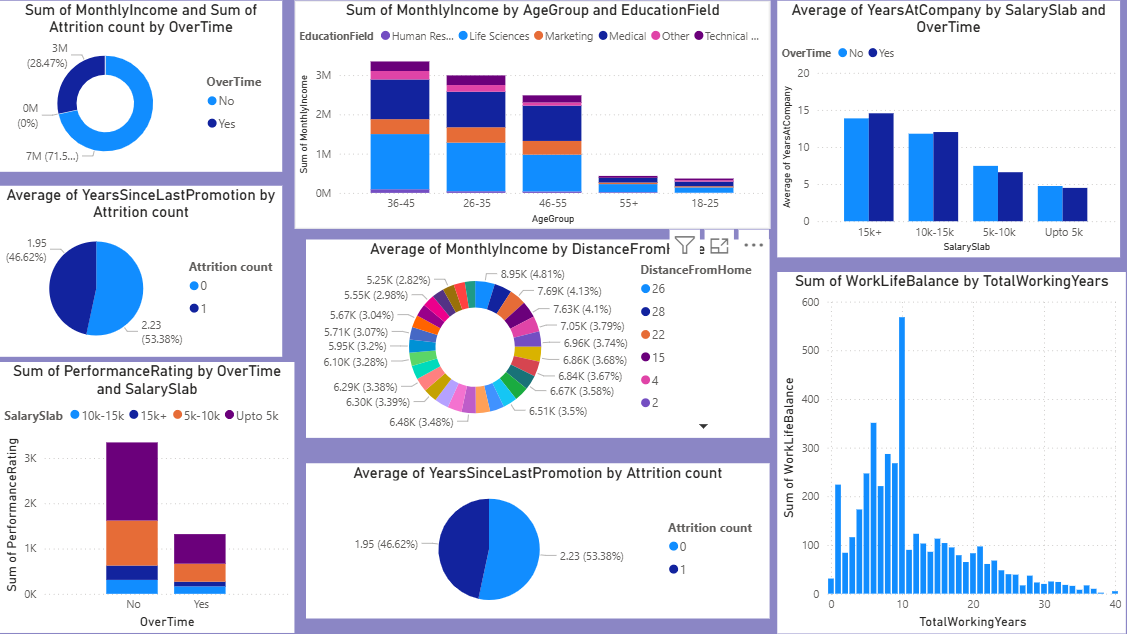

Layout of this report page (visuals, bound fields, positions):
{"tool":"powerbi","page":{"name":"Analysis","canvas":[1280,720],"ordinal":2},"visuals":[{"type":"donutChart","fields":{"Category":["HR_Analytics.OverTime"],"Y":["Sum(HR_Analytics.MonthlyIncome)","Sum(HR_Analytics.Attrition count)"]},"box":[9.6,9.6,314.2,190.7],"z":0},{"type":"pieChart","fields":{"Category":["HR_Analytics.Attrition count"],"Y":["Avg(HR_Analytics.YearsSinceLastPromotion)"]},"box":[351.3,524.2,516,172.9],"z":1000},{"type":"columnChart","fields":{"Y":["Sum(HR_Analytics.PerformanceRating)"],"Category":["HR_Analytics.OverTime"],"Series":["HR_Analytics.SalarySlab"]},"box":[9.6,411.7,328,301.9],"z":3000},{"type":"columnChart","fields":{"Y":["Sum(HR_Analytics.WorkLifeBalance)"],"Category":["HR_Analytics.TotalWorkingYears"]},"box":[875.5,311.5,388.3,402.1],"z":4000},{"type":"donutChart","fields":{"Category":["HR_Analytics.DistanceFromHome"],"Y":["Avg(HR_Analytics.MonthlyIncome)"]},"box":[351.3,275.8,516,220.9],"z":5000},{"type":"clusteredColumnChart","fields":{"Y":["Avg(HR_Analytics.YearsAtCompany)"],"Category":["HR_Analytics.SalarySlab"],"Series":["HR_Analytics.OverTime"]},"box":[875.5,9.6,381.5,285.4],"z":6000},{"type":"columnChart","fields":{"Y":["Sum(HR_Analytics.MonthlyIncome)"],"Category":["HR_Analytics.AgeGroup"],"Series":["HR_Analytics.EducationField"]},"box":[337.6,9.6,529.7,253.9],"z":7000},{"type":"pieChart","fields":{"Y":["Avg(HR_Analytics.YearsSinceLastPromotion)"],"Category":["HR_Analytics.Attrition count"]},"box":[9.6,215.4,314.2,190.7],"z":8000}]}

Visuals, with their boxes in screenshot pixels (x1, y1, x2, y2), scaled from the page's 1280x720 canvas onto the 1127x634 screenshot:
donutChart - HR_Analytics.OverTime x Sum(HR_Analytics.MonthlyIncome): detection(8, 8, 285, 176)
pieChart - HR_Analytics.Attrition count x Avg(HR_Analytics.YearsSinceLastPromotion): detection(309, 462, 764, 614)
columnChart - Sum(HR_Analytics.PerformanceRating) x HR_Analytics.OverTime: detection(8, 363, 297, 628)
columnChart - Sum(HR_Analytics.WorkLifeBalance) x HR_Analytics.TotalWorkingYears: detection(771, 274, 1113, 628)
donutChart - HR_Analytics.DistanceFromHome x Avg(HR_Analytics.MonthlyIncome): detection(309, 243, 764, 437)
clusteredColumnChart - Avg(HR_Analytics.YearsAtCompany) x HR_Analytics.SalarySlab: detection(771, 8, 1107, 260)
columnChart - Sum(HR_Analytics.MonthlyIncome) x HR_Analytics.AgeGroup: detection(297, 8, 764, 232)
pieChart - Avg(HR_Analytics.YearsSinceLastPromotion) x HR_Analytics.Attrition count: detection(8, 190, 285, 358)
